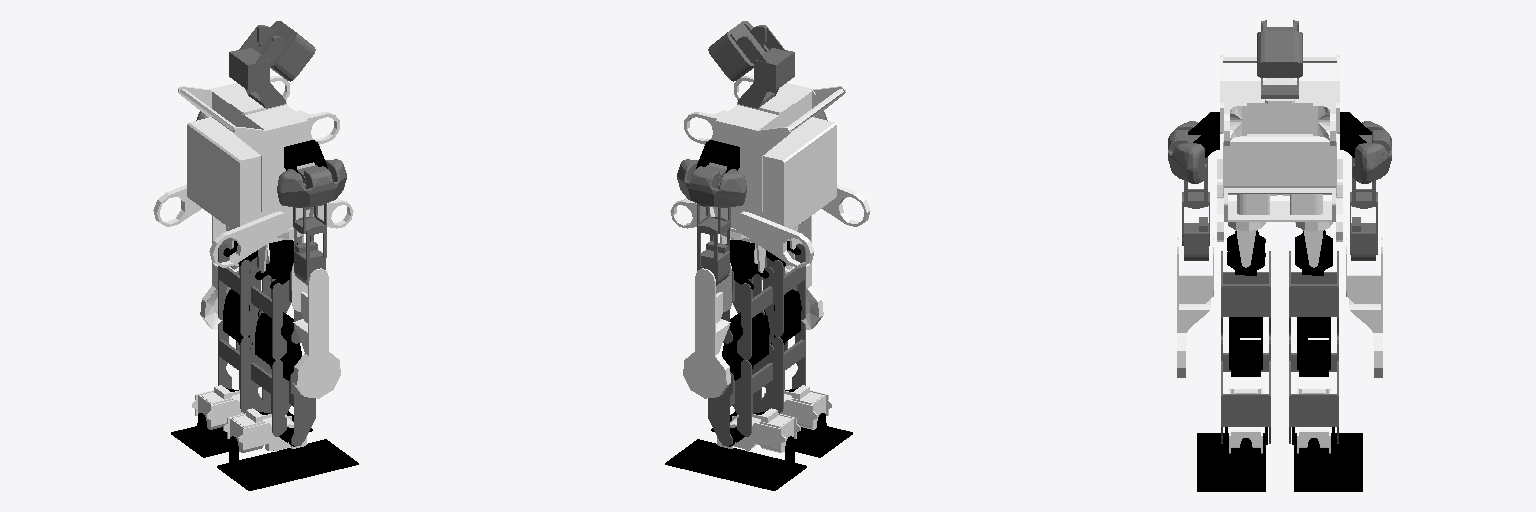
--- Facts derived from the render (not from the file) ---
Views: 3 orthographic renders of the robot side by side, from view 1: azimuth 30°, elevation 25°; view 2: azimuth 150°, elevation 25°; view 3: azimuth 270°, elevation 25°.
Model SUSTAINA-OP with 35 links and 34 joints (29 revolute, 5 fixed), rooted at base_link, posed every joint at zero.
Links seen in each view (by area): view 1: body_link, head_yaw_link, right_lower_arm_link, right_upper_arm_link, right_ankle_roll_link, right_ankle_pitch_link, right_shin_pitch_mimic_link, right_waist_pitch_mimic_link, left_shin_pitch_mimic_link, left_waist_pitch_mimic_link, right_knee_pitch_link, left_ankle_pitch_link (+6 smaller); view 2: body_link, head_yaw_link, left_lower_arm_link, left_upper_arm_link, left_ankle_roll_link, left_ankle_pitch_link, left_shin_pitch_mimic_link, left_waist_pitch_mimic_link, right_shin_pitch_mimic_link, left_knee_pitch_link, right_waist_pitch_mimic_link, right_ankle_pitch_link (+6 smaller); view 3: body_link, left_ankle_roll_link, right_ankle_roll_link, left_upper_arm_link, right_upper_arm_link, head_yaw_link, left_lower_arm_link, right_lower_arm_link, left_knee_pitch_link, right_knee_pitch_link, left_waist_pitch_link, right_waist_pitch_link (+8 smaller).
Link boxes in pixels (bbox=[...]): body_link: bbox=[153, 76, 353, 267]; head_yaw_link: bbox=[229, 21, 315, 108]; right_lower_arm_link: bbox=[292, 263, 340, 398]; right_upper_arm_link: bbox=[277, 159, 346, 285]; right_ankle_roll_link: bbox=[217, 436, 358, 490]; right_ankle_pitch_link: bbox=[223, 408, 306, 452]; right_shin_pitch_mimic_link: bbox=[250, 344, 286, 436]; right_waist_pitch_mimic_link: bbox=[250, 267, 286, 359]; left_shin_pitch_mimic_link: bbox=[218, 320, 251, 413]; left_waist_pitch_mimic_link: bbox=[218, 243, 251, 336]; right_knee_pitch_link: bbox=[255, 312, 301, 380]; left_ankle_pitch_link: bbox=[192, 385, 259, 429]; body_link: bbox=[670, 76, 870, 267]; head_yaw_link: bbox=[708, 21, 794, 108]; left_lower_arm_link: bbox=[683, 263, 731, 398]; left_upper_arm_link: bbox=[677, 159, 746, 285]; left_ankle_roll_link: bbox=[665, 436, 806, 490]; left_ankle_pitch_link: bbox=[717, 408, 800, 452]; left_shin_pitch_mimic_link: bbox=[737, 344, 773, 436]; left_waist_pitch_mimic_link: bbox=[737, 267, 773, 359]; right_shin_pitch_mimic_link: bbox=[772, 320, 805, 413]; left_knee_pitch_link: bbox=[722, 312, 769, 380]; right_waist_pitch_mimic_link: bbox=[772, 243, 805, 336]; right_ankle_pitch_link: bbox=[764, 385, 831, 429]; body_link: bbox=[1217, 55, 1342, 241]; left_ankle_roll_link: bbox=[1294, 433, 1362, 491]; right_ankle_roll_link: bbox=[1197, 433, 1265, 491]; left_upper_arm_link: bbox=[1350, 121, 1391, 260]; right_upper_arm_link: bbox=[1168, 121, 1209, 260]; head_yaw_link: bbox=[1257, 20, 1302, 98]; left_lower_arm_link: bbox=[1346, 237, 1382, 377]; right_lower_arm_link: bbox=[1177, 237, 1213, 377]; left_knee_pitch_link: bbox=[1297, 317, 1330, 376]; right_knee_pitch_link: bbox=[1229, 317, 1262, 376]; left_waist_pitch_link: bbox=[1289, 251, 1338, 334]; right_waist_pitch_link: bbox=[1221, 251, 1270, 334].
Bounding box of the posed robot: 0.2249 × 0.2928 × 0.6378 m (x, y, z).
Meshes: 15 distinct files referenced, 30 mesh visuals loaded (15 binary STL).

The robot description file, URDF, robot "SUSTAINA-OP":
<?xml version="1.0" ?>
<!-- SUSTAINA-OP is designed by Masato Kubotera https://github.com/citbrains/SUSTAINA-OP -->
<!-- SUSTAINA-OP by Masato Kubotera, CIT Brains is licenced under CC BY NC SA 4.0 -->
<!-- This package:// is made based on the 3D CAD files of SUSTAINA-OP by Yasuo Hayashibara -->
<robot name="SUSTAINA-OP" xmlns:xacro="http://www.ros.org/wiki/xacro">
  <material name="black">
    <color rgba="0.0 0.0 0.0 1.0"/>
  </material>
  <material name="blue">
    <color rgba="0.2 0.2 1.0 1.0"/>
  </material>
  <material name="green">
    <color rgba="0.0 0.8 0.0 1.0"/>
  </material>
  <material name="grey">
    <color rgba="0.5 0.5 0.5 1.0"/>
  </material>
  <material name="orange">
    <color rgba="1.0 0.423529411765 0.0392156862745 1.0"/>
  </material>
  <material name="brown">
    <color rgba="1.0 0.811764705882 0.764705882353 1.0"/>
  </material>
  <material name="red">
    <color rgba="1.0 0.0 0.0 1.0"/>
  </material>
  <material name="white">
    <color rgba="1.0 1.0 1.0 1.0"/>
  </material>
  <!-- import empty link -->
  <link name="base_link">
  </link>
  <!-- uncomment this part to fixed the body in space (ignore gravity) -->
  <!--
    <link name="world"/>
    <joint name="world2base" type="fixed">
        <origin xyz="0 0 0" rpy="0 0 0" />
        <parent link="world"/>
        <child link="base_link"/>
    </joint>
    -->
  <!-- base joints -->
  <joint name="base_joint" type="fixed">
    <parent link="base_link"/>
    <child link="body_link"/>
    <origin rpy="0 0 0" xyz="0 0 0.3725"/>
  </joint>
  <!-- base body -->
  <link name="body_link">
    <inertial>
      <mass value="1.758639"/>
      <origin xyz="-0.02475 0.000537 0.068556"/>
      <inertia ixx="0.009982335" ixy="0.0" ixz="0.0" iyy="0.007902445" iyz="0.0" izz="0.00631869"/>
    </inertial>
    <visual>
      <origin rpy="0 0 0" xyz="0 0 0"/>
      <geometry>
        <mesh filename="package:///meshes/STL/body.stl"/>
      </geometry>
      <material name="white"/>
    </visual>
    <collision>
      <origin rpy="0 0 0" xyz="0 0 0"/>
      <geometry>
        <mesh filename="package:///meshes/STL/body.stl"/>
      </geometry>
    </collision>
  </link>
  <!-- head joints -->
  <joint name="head_yaw_joint" type="revolute">
    <parent link="body_link"/>
    <child link="head_yaw_link"/>
    <origin rpy="0 0 0" xyz="-0.005 0 0.1695"/>
    <limit effort="1000" lower="-2.35619449019" upper="2.35619449019" velocity="1.0"/>
    <axis xyz="0 0 1"/>
  </joint>
  <!-- head link -->
  <link name="head_yaw_link">
    <inertial>
      <mass value="0.094731"/>
      <origin xyz="0.005724 0 0.060725"/>
      <inertia ixx="0.000126538" ixy="0.0" ixz="0.0" iyy="0.000131085" iyz="0.0" izz="0.000071725 "/>
    </inertial>
    <visual>
      <origin rpy="0 0 0" xyz="0 0 0"/>
      <geometry>
        <mesh filename="package:///meshes/STL/head.stl"/>
      </geometry>
      <material name="grey"/>
    </visual>
    <collision>
      <origin rpy="0 0 0" xyz="0 0 0"/>
      <geometry>
        <mesh filename="package:///meshes/STL/head.stl"/>
      </geometry>
    </collision>
  </link>
  <!-- arm joints -->
  <joint name="left_shoulder_pitch_joint" type="revolute">
    <parent link="body_link"/>
    <child link="left_shoulder_link"/>
    <origin rpy="0 0 0" xyz="0.0 0.0785 0.118"/>
    <limit effort="1000" lower="-2.35619449019" upper="2.35619449019" velocity="1.0"/>
    <axis xyz="0 1 0"/>
  </joint>
  <joint name="left_shoulder_roll_joint" type="revolute">
    <parent link="left_shoulder_link"/>
    <child link="left_upper_arm_link"/>
    <origin rpy="0 0 0" xyz="0 0.0308 -0.025"/>
    <limit effort="1000" lower="0" upper="3.14159265359" velocity="1.0"/>
    <axis xyz="1 0 0"/>
  </joint>
  <joint name="left_elbow_pitch_joint" type="revolute">
    <parent link="left_upper_arm_link"/>
    <child link="left_lower_arm_link"/>
    <origin rpy="0 0 0" xyz="0 0 -0.145"/>
    <limit effort="1000" lower="-2.35619449019" upper="2.35619449019" velocity="1.0"/>
    <axis xyz="0 1 0"/>
  </joint>
  <!-- arm link -->
  <link name="left_shoulder_link">
    <inertial>
      <mass value="0.029974"/>
      <origin xyz="0 0.01004 -0.005235"/>
      <inertia ixx="0.000009025" ixy="0.0" ixz="0.0" iyy="0.000016881" iyz="0.0" izz="0.000011316"/>
    </inertial>
    <visual>
      <origin rpy="0 0 0" xyz="0 0 0"/>
      <geometry>
        <mesh filename="package:///meshes/STL/shoulder.stl"/>
      </geometry>
      <material name="black"/>
    </visual>
    <collision>
      <origin rpy="0 0 0" xyz="0 0 0"/>
      <geometry>
        <mesh filename="package:///meshes/STL/shoulder.stl"/>
      </geometry>
    </collision>
  </link>
  <link name="left_upper_arm_link">
    <inertial>
      <mass value="0.433169"/>
      <origin xyz="0.000415 0.005221 -0.047591"/>
      <inertia ixx="0.001462386" ixy="0.0" ixz="0.0" iyy="0.001573653" iyz="0.0" izz="0.000250070"/>
    </inertial>
    <visual>
      <origin rpy="0 0 0" xyz="0 0 0"/>
      <geometry>
        <mesh filename="package:///meshes/STL/arm.stl"/>
      </geometry>
      <material name="grey"/>
    </visual>
    <collision>
      <origin rpy="0 0 0" xyz="0 0 0"/>
      <geometry>
        <mesh filename="package:///meshes/STL/arm.stl"/>
      </geometry>
    </collision>
  </link>
  <link name="left_lower_arm_link">
    <inertial>
      <mass value="0.137614"/>
      <origin xyz="0 0.011654 -0.083221"/>
      <inertia ixx="0.000397774" ixy="0.0" ixz="0.0" iyy="0.000391749" iyz="0.0" izz="0.000056957"/>
    </inertial>
    <visual>
      <origin rpy="0 0 0" xyz="0 0 0"/>
      <geometry>
        <mesh filename="package:///meshes/STL/hand.stl"/>
      </geometry>
      <material name="white"/>
    </visual>
    <collision>
      <origin rpy="0 0 0" xyz="0 0 0"/>
      <geometry>
        <mesh filename="package:///meshes/STL/hand.stl"/>
      </geometry>
    </collision>
  </link>
  <!-- arm joints -->
  <joint name="right_shoulder_pitch_joint" type="revolute">
    <parent link="body_link"/>
    <child link="right_shoulder_link"/>
    <origin rpy="0 0 0" xyz="0.0 -0.0785 0.118"/>
    <limit effort="1000" lower="-2.35619449019" upper="2.35619449019" velocity="1.0"/>
    <axis xyz="0 1 0"/>
  </joint>
  <joint name="right_shoulder_roll_joint" type="revolute">
    <parent link="right_shoulder_link"/>
    <child link="right_upper_arm_link"/>
    <origin rpy="0 0 0" xyz="0 -0.0308 -0.025"/>
    <limit effort="1000" lower="-3.14159265359" upper="0" velocity="1.0"/>
    <axis xyz="1 0 0"/>
  </joint>
  <joint name="right_elbow_pitch_joint" type="revolute">
    <parent link="right_upper_arm_link"/>
    <child link="right_lower_arm_link"/>
    <origin rpy="0 0 0" xyz="0 0 -0.145"/>
    <limit effort="1000" lower="-2.35619449019" upper="2.35619449019" velocity="1.0"/>
    <axis xyz="0 1 0"/>
  </joint>
  <!-- arm link -->
  <link name="right_shoulder_link">
    <inertial>
      <mass value="0.029974"/>
      <origin xyz="0 -0.01004 -0.005235"/>
      <inertia ixx="0.000009025" ixy="0.0" ixz="0.0" iyy="0.000016881" iyz="0.0" izz="0.000011316"/>
    </inertial>
    <visual>
      <origin rpy="0 0 3.14159265359" xyz="0 0 0"/>
      <geometry>
        <mesh filename="package:///meshes/STL/shoulder.stl"/>
      </geometry>
      <material name="black"/>
    </visual>
    <collision>
      <!-- fix shoulder collision.stl -->
      <origin rpy="0 0 3.14159265359" xyz="0 0 0"/>
      <geometry>
        <mesh filename="package:///meshes/STL/shoulder.stl"/>
      </geometry>
    </collision>
  </link>
  <link name="right_upper_arm_link">
    <inertial>
      <mass value="0.433169"/>
      <origin xyz="0.000415 -0.005221 -0.047591"/>
      <inertia ixx="0.001462386" ixy="0.0" ixz="0.0" iyy="0.001573653" iyz="0.0" izz="0.000250070"/>
    </inertial>
    <visual>
      <origin rpy="0 0 3.14159265359" xyz="0 0 0"/>
      <geometry>
        <mesh filename="package:///meshes/STL/arm.stl"/>
      </geometry>
      <material name="grey"/>
    </visual>
    <collision>
      <origin rpy="0 0 3.14159265359" xyz="0 0 0"/>
      <geometry>
        <mesh filename="package:///meshes/STL/arm.stl"/>
      </geometry>
    </collision>
  </link>
  <link name="right_lower_arm_link">
    <inertial>
      <mass value="0.137614"/>
      <origin xyz="0 -0.011654 -0.083221"/>
      <inertia ixx="0.000397774" ixy="0.0" ixz="0.0" iyy="0.000391749" iyz="0.0" izz="0.000056957"/>
    </inertial>
    <visual>
      <origin rpy="0 0 3.14159265359" xyz="0 0 0"/>
      <geometry>
        <mesh filename="package:///meshes/STL/hand.stl"/>
      </geometry>
      <material name="white"/>
    </visual>
    <collision>
      <origin rpy="0 0 3.14159265359" xyz="0 0 0"/>
      <geometry>
        <mesh filename="package:///meshes/STL/hand.stl"/>
      </geometry>
    </collision>
  </link>
  <!-- leg joints -->
  <joint name="left_waist_yaw_joint" type="revolute">
    <parent link="body_link"/>
    <child link="left_waist_yaw_link"/>
    <origin rpy="0 0 0" xyz="0.0 0.044 -0.015"/>
    <limit effort="1000" lower="-2.35619449019" upper="2.35619449019" velocity="1.0"/>
    <axis xyz="0 0 1"/>
  </joint>
  <joint name="left_waist_roll_joint" type="revolute">
    <parent link="left_waist_yaw_link"/>
    <child link="left_waist_roll_link"/>
    <origin rpy="0 0 0" xyz="0 0 -0.0475"/>
    <limit effort="1000" lower="-0.785398163397" upper="0.785398163397" velocity="1.0"/>
    <axis xyz="1 0 0"/>
  </joint>
  <joint name="left_waist_roll_mimic_joint" type="revolute">
    <parent link="left_waist_roll_link"/>
    <child link="left_slider_crank_link"/>
    <origin rpy="0 0 0" xyz="-0.032 0 0.018"/>
    <mimic joint="left_waist_roll_joint" multiplier="-2" offset="0"/>
    <limit effort="1000" lower="-1.57079632679" upper="1.57079632679" velocity="2.0"/>
    <axis xyz="1 0 0"/>
  </joint>
  <joint name="left_waist_pitch_joint" type="revolute">
    <parent link="left_waist_roll_link"/>
    <child link="left_waist_pitch_link"/>
    <origin rpy="0 0 0" xyz="0 0 0"/>
    <limit effort="1000" lower="-1.57079632679" upper="0.523598775598" velocity="1.0"/>
    <axis xyz="0 1 0"/>
  </joint>
  <joint name="left_waist_pitch_mimic_joint" type="revolute">
    <parent link="left_waist_roll_link"/>
    <child link="left_waist_pitch_mimic_link"/>
    <origin rpy="0 0 0" xyz="-0.032 0 -0.020"/>
    <mimic joint="left_waist_pitch_joint" multiplier="1" offset="0"/>
    <limit effort="1000" lower="-1.57079632679" upper="0.523598775598" velocity="1.0"/>
    <axis xyz="0 1 0"/>
  </joint>
  <joint name="left_knee_pitch_mimic_joint" type="revolute">
    <parent link="left_waist_pitch_link"/>
    <child link="left_knee_pitch_link"/>
    <origin rpy="0 0 0" xyz="0 0 -0.1"/>
    <mimic joint="left_waist_pitch_joint" multiplier="-1" offset="0"/>
    <limit effort="1000" lower="-0.523598775598" upper="1.57079632679" velocity="1.0"/>
    <axis xyz="0 1 0"/>
  </joint>
  <joint name="left_knee_pitch_joint" type="revolute">
    <parent link="left_knee_pitch_link"/>
    <child link="left_shin_pitch_link"/>
    <origin rpy="0 0 0" xyz="0 0 -0.057"/>
    <limit effort="1000" lower="-0.523598775598" upper="1.57079632679" velocity="1.0"/>
    <axis xyz="0 1 0"/>
  </joint>
  <joint name="left_shin_pitch_mimic_joint" type="revolute">
    <parent link="left_knee_pitch_link"/>
    <child link="left_shin_pitch_mimic_link"/>
    <origin rpy="0 0 0" xyz="-0.032 0 -0.037"/>
    <mimic joint="left_knee_pitch_joint" multiplier="1" offset="0"/>
    <limit effort="1000" lower="-0.523598775598" upper="1.57079632679" velocity="1.0"/>
    <axis xyz="0 1 0"/>
  </joint>
  <joint name="left_ankle_pitch_mimic_joint" type="revolute">
    <parent link="left_shin_pitch_link"/>
    <child link="left_independent_pitch_link"/>
    <origin rpy="0 0 0" xyz="0 0 -0.1"/>
    <mimic joint="left_knee_pitch_joint" multiplier="-1" offset="0"/>
    <limit effort="1000" lower="-1.57079632679" upper="1.57079632679" velocity="1.0"/>
    <axis xyz="0 1 0"/>
  </joint>
  <joint name="left_ankle_pitch_joint" type="revolute">
    <parent link="left_independent_pitch_link"/>
    <child link="left_ankle_pitch_link"/>
    <origin rpy="0 0 0" xyz="0 0 0"/>
    <limit effort="1000" lower="-2.35619449019" upper="2.35619449019" velocity="1.0"/>
    <axis xyz="0 1 0"/>
  </joint>
  <joint name="left_ankle_roll_joint" type="revolute">
    <parent link="left_ankle_pitch_link"/>
    <child link="left_ankle_roll_link"/>
    <origin rpy="0 0 0" xyz="0 0 0"/>
    <limit effort="1000" lower="-1.57079632679" upper="1.57079632679" velocity="1.0"/>
    <axis xyz="1 0 0"/>
  </joint>
  <joint name="left_foot_joint" type="fixed">
    <parent link="left_ankle_roll_link"/>
    <child link="left_foot_link"/>
    <origin rpy="0 0 0" xyz="0 0 0"/>
  </joint>
  <!-- leg links -->
  <link name="left_waist_yaw_link">
    <inertial>
      <mass value="0.03478"/>
      <origin xyz="-0.008797 0 -0.009724"/>
      <inertia ixx="0.000008114" ixy="0.0" ixz="0.0" iyy="0.000023034" iyz="0.0" izz="0.000019287"/>
    </inertial>
    <visual>
      <origin rpy="0 0 0" xyz="0 0 0"/>
      <geometry>
        <mesh filename="package:///meshes/STL/waist_yaw.stl"/>
      </geometry>
      <material name="white"/>
    </visual>
    <collision>
      <origin rpy="0 0 0" xyz="0 0 0"/>
      <geometry>
        <mesh filename="package:///meshes/STL/waist_yaw.stl"/>
      </geometry>
    </collision>
  </link>
  <link name="left_waist_roll_link">
    <inertial>
      <mass value="0.129389"/>
      <origin xyz="-0.011068 -0.000004 -0.000154"/>
      <inertia ixx="0.000055580" ixy="0.0" ixz="0.0" iyy="0.000061752" iyz="0.0" izz="0.000079989"/>
    </inertial>
    <visual>
      <origin rpy="0 0 0" xyz="0 0 0"/>
      <geometry>
        <mesh filename="package:///meshes/STL/waist_roll.stl"/>
      </geometry>
      <material name="black"/>
    </visual>
    <collision>
      <origin rpy="0 0 0" xyz="0 0 0"/>
      <geometry>
        <mesh filename="package:///meshes/STL/waist_roll.stl"/>
      </geometry>
    </collision>
  </link>
  <link name="left_slider_crank_link">
    <inertial>
      <mass value="0.011085"/>
      <origin xyz="-0.005363 0.000000 0.012305"/>
      <inertia ixx="0.000001236" ixy="0.0" ixz="0.0" iyy="0.000001154" iyz="0.0" izz="0.000000372"/>
    </inertial>
    <visual>
      <origin rpy="0 0 0" xyz="0 0 0"/>
      <geometry>
        <mesh filename="package:///meshes/STL/slider_crank.stl"/>
      </geometry>
      <material name="white"/>
    </visual>
    <collision>
      <origin rpy="0 0 0" xyz="0 0 0"/>
      <geometry>
        <mesh filename="package:///meshes/STL/slider_crank.stl"/>
      </geometry>
    </collision>
  </link>
  <link name="left_waist_pitch_link">
    <inertial>
      <mass value="0.048967"/>
      <origin xyz="0.011314 0.000000 -0.062223"/>
      <inertia ixx="0.000082632" ixy="0.0" ixz="0.0" iyy="0.000049273" iyz="0.0" izz="0.000045494"/>
    </inertial>
    <visual>
      <origin rpy="0 0 0" xyz="0 0 0"/>
      <geometry>
        <mesh filename="package:///meshes/STL/waist_pitch.stl"/>
      </geometry>
      <material name="grey"/>
    </visual>
    <collision>
      <origin rpy="0 0 0" xyz="0 0 0"/>
      <geometry>
        <mesh filename="package:///meshes/STL/waist_pitch.stl"/>
      </geometry>
    </collision>
  </link>
  <link name="left_waist_pitch_mimic_link">
    <inertial>
      <mass value="0.023"/>
      <origin xyz="-0.001672 0.000000 -0.043339"/>
      <inertia ixx="0.000034484" ixy="0.0" ixz="0.0" iyy="0.000017178" iyz="0.0" izz="0.000018302"/>
    </inertial>
    <visual>
      <origin rpy="0 0 0" xyz="0 0 0"/>
      <geometry>
        <mesh filename="package:///meshes/STL/waist_pitch_mimic.stl"/>
      </geometry>
      <material name="grey"/>
    </visual>
    <collision>
      <origin rpy="0 0 0" xyz="0 0 0"/>
      <geometry>
        <mesh filename="package:///meshes/STL/waist_pitch_mimic.stl"/>
      </geometry>
    </collision>
  </link>
  <link name="left_knee_pitch_link">
    <inertial>
      <mass value="0.19127"/>
      <origin xyz="-0.012553 -0.000997 -0.023840"/>
      <inertia ixx="0.000164790" ixy="0.0" ixz="0.0" iyy="0.000151986" iyz="0.0" izz="0.000098349"/>
    </inertial>
    <visual>
      <origin rpy="0 0 0" xyz="0 0 0"/>
      <geometry>
        <mesh filename="package:///meshes/STL/knee_pitch.stl"/>
      </geometry>
      <material name="black"/>
    </visual>
    <collision>
      <origin rpy="0 0 0" xyz="0 0 0"/>
      <geometry>
        <mesh filename="package:///meshes/STL/knee_pitch.stl"/>
      </geometry>
    </collision>
  </link>
  <link name="left_shin_pitch_link">
    <inertial>
      <mass value="0.048967"/>
      <origin xyz="0.011314 0.000000 -0.037777"/>
      <inertia ixx="0.000082632" ixy="0.0" ixz="0.0" iyy="0.000049273" iyz="0.0" izz="0.000045494"/>
    </inertial>
    <visual>
      <origin rpy="0 0 0" xyz="0 0 0"/>
      <geometry>
        <mesh filename="package:///meshes/STL/waist_pitch.stl"/>
      </geometry>
      <material name="grey"/>
    </visual>
    <collision>
      <origin rpy="0 0 0" xyz="0 0 0"/>
      <geometry>
        <mesh filename="package:///meshes/STL/waist_pitch.stl"/>
      </geometry>
    </collision>
  </link>
  <link name="left_shin_pitch_mimic_link">
    <inertial>
      <mass value="0.023"/>
      <origin xyz="-0.001672 0.000000 -0.048684"/>
      <inertia ixx="0.000032309" ixy="0.0" ixz="0.0" iyy="0.000015039" iyz="0.0" izz="0.000018339"/>
    </inertial>
    <visual>
      <origin rpy="0 0 0" xyz="0 0 0"/>
      <geometry>
        <mesh filename="package:///meshes/STL/waist_pitch_mimic.stl"/>
      </geometry>
      <material name="grey"/>
    </visual>
    <collision>
      <origin rpy="0 0 0" xyz="0 0 0"/>
      <geometry>
        <mesh filename="package:///meshes/STL/waist_pitch_mimic.stl"/>
      </geometry>
    </collision>
  </link>
  <link name="left_independent_pitch_link">
    <inertial>
      <mass value="0.033835"/>
      <origin xyz="-0.014232 0.000000 0.008895"/>
      <inertia ixx="0.000030599" ixy="0.0" ixz="0.0" iyy="0.000011414" iyz="0.0" izz="0.000040713"/>
    </inertial>
    <visual>
      <origin rpy="0 0 0" xyz="0 0 0"/>
      <geometry>
        <mesh filename="package:///meshes/STL/independent_pitch.stl"/>
      </geometry>
      <material name="black"/>
    </visual>
    <collision>
      <origin rpy="0 0 0" xyz="0 0 0"/>
      <geometry>
        <mesh filename="package:///meshes/STL/independent_pitch.stl"/>
      </geometry>
    </collision>
  </link>
  <link name="left_ankle_pitch_link">
    <inertial>
      <mass value="0.170076"/>
      <origin xyz="-0.031024 -0.000563 0.005073"/>
      <inertia ixx="0.000049799" ixy="0.0" ixz="0.0" iyy="0.000213199" iyz="0.0" izz="0.000223639"/>
    </inertial>
    <visual>
      <origin rpy="0 0 0" xyz="0 0 0"/>
      <geometry>
        <mesh filename="package:///meshes/STL/ankle_pitch.stl"/>
      </geometry>
      <material name="white"/>
    </visual>
    <collision>
      <origin rpy="0 0 0" xyz="0 0 0"/>
      <geometry>
        <mesh filename="package:///meshes/STL/ankle_pitch.stl"/>
      </geometry>
    </collision>
  </link>
  <link name="left_ankle_roll_link">
    <inertial>
      <mass value="0.084354"/>
      <origin xyz="-0.009915 0.014839 -0.038901"/>
      <inertia ixx="0.000072411" ixy="0.0" ixz="0.0" iyy="0.000303046" iyz="0.0" izz="0.000358794"/>
    </inertial>
    <visual>
      <origin rpy="0 0 0" xyz="0 0 0"/>
      <geometry>
        <mesh filename="package:///meshes/STL/ankle_roll_left.stl"/>
      </geometry>
      <material name="black"/>
    </visual>
    <collision>
      <origin rpy="0 0 0" xyz="0 0 0"/>
      <geometry>
        <mesh filename="package:///meshes/STL/ankle_roll_left.stl"/>
      </geometry>
    </collision>
  </link>
  <link name="left_foot_link">
    <inertial>
      <mass value="0.0"/>
      <inertia ixx="0.0" ixy="0.0" ixz="0.0" iyy="0.0" iyz="0.0" izz="0.0"/>
    </inertial>
  </link>
  <!-- leg joints -->
  <joint name="right_waist_yaw_joint" type="revolute">
    <parent link="body_link"/>
    <child link="right_waist_yaw_link"/>
    <origin rpy="0 0 0" xyz="0 -0.044 -0.015"/>
    <limit effort="1000" lower="-2.35619449019" upper="2.35619449019" velocity="1.0"/>
    <axis xyz="0 0 1"/>
  </joint>
  <joint name="right_waist_roll_joint" type="revolute">
    <parent link="right_waist_yaw_link"/>
    <child link="right_waist_roll_link"/>
    <origin rpy="0 0 0" xyz="0 0 -0.0475"/>
    <limit effort="1000" lower="-0.785398163397" upper="0.785398163397" velocity="1.0"/>
    <axis xyz="1 0 0"/>
  </joint>
  <joint name="right_waist_roll_mimic_joint" type="revolute">
    <parent link="right_waist_roll_link"/>
    <child link="right_slider_crank_link"/>
    <origin rpy="0 0 0" xyz="-0.032 0 0.018"/>
    <mimic joint="right_waist_roll_joint" multiplier="-2" offset="0"/>
    <limit effort="1000" lower="-1.57079632679" upper="1.57079632679" velocity="2.0"/>
    <axis xyz="1 0 0"/>
  </joint>
  <joint name="right_waist_pitch_joint" type="revolute">
    <parent link="right_waist_roll_link"/>
    <child link="right_waist_pitch_link"/>
    <origin rpy="0 0 0" xyz="0 0 0"/>
    <limit effort="1000" lower="-1.57079632679" upper="0.523598775598" velocity="1.0"/>
    <axis xyz="0 1 0"/>
  </joint>
  <joint name="right_waist_pitch_mimic_joint" type="revolute">
    <parent link="right_waist_roll_link"/>
    <child link="right_waist_pitch_mimic_link"/>
    <origin rpy="0 0 0" xyz="-0.032 0 -0.020"/>
    <mimic joint="right_waist_pitch_joint" multiplier="1" offset="0"/>
    <limit effort="1000" lower="-1.57079632679" upper="0.523598775598" velocity="1.0"/>
    <axis xyz="0 1 0"/>
  </joint>
  <joint name="right_knee_pitch_mimic_joint" type="revolute">
    <parent link="right_waist_pitch_link"/>
    <child link="right_knee_pitch_link"/>
    <origin rpy="0 0 0" xyz="0 0 -0.100"/>
    <mimic joint="right_waist_pitch_joint" multiplier="-1" offset="0"/>
    <limit effort="1000" lower="-0.523598775598" upper="1.57079632679" velocity="1.0"/>
    <axis xyz="0 1 0"/>
  </joint>
  <joint name="right_knee_pitch_joint" type="revolute">
    <parent link="right_knee_pitch_link"/>
    <child link="right_shin_pitch_link"/>
    <origin rpy="0 0 0" xyz="0 0 -0.057"/>
    <limit effort="1000" lower="-0.523598775598" upper="1.57079632679" velocity="1.0"/>
    <axis xyz="0 1 0"/>
  </joint>
  <joint name="right_shin_pitch_mimic_joint" type="revolute">
    <parent link="right_knee_pitch_link"/>
    <child link="right_shin_pitch_mimic_link"/>
    <origin rpy="0 0 0" xyz="-0.032 0 -0.037"/>
    <mimic joint="right_knee_pitch_joint" multiplier="1" offset="0"/>
    <limit effort="1000" lower="-0.523598775598" upper="1.57079632679" velocity="1.0"/>
    <axis xyz="0 1 0"/>
  </joint>
  <joint name="right_ankle_pitch_mimic_joint" type="revolute">
    <parent link="right_shin_pitch_link"/>
    <child link="right_independent_pitch_link"/>
    <origin rpy="0 0 0" xyz="0 0 -0.100"/>
    <mimic joint="right_knee_pitch_joint" multiplier="-1" offset="0"/>
    <limit effort="1000" lower="-1.57079632679" upper="1.57079632679" velocity="1.0"/>
    <axis xyz="0 1 0"/>
  </joint>
  <joint name="right_ankle_pitch_joint" type="revolute">
    <parent link="right_independent_pitch_link"/>
    <child link="right_ankle_pitch_link"/>
    <origin rpy="0 0 0" xyz="0 0 0"/>
    <limit effort="1000" lower="-2.35619449019" upper="2.35619449019" velocity="1.0"/>
    <axis xyz="0 1 0"/>
  </joint>
  <joint name="right_ankle_roll_joint" type="revolute">
    <parent link="right_ankle_pitch_link"/>
    <child link="right_ankle_roll_link"/>
    <origin rpy="0 0 0" xyz="0 0 0"/>
    <limit effort="1000" lower="-1.57079632679" upper="1.57079632679" velocity="1.0"/>
    <axis xyz="1 0 0"/>
  </joint>
  <joint name="right_foot_joint" type="fixed">
    <parent link="right_ankle_roll_link"/>
    <child link="right_foot_link"/>
    <origin rpy="0 0 0" xyz="0 0 0"/>
  </joint>
  <!-- leg links -->
  <link name="right_waist_yaw_link">
    <inertial>
      <mass value="0.03478"/>
      <origin xyz="-0.008797 0.000000 -0.009724"/>
      <inertia ixx="0.000008114" ixy="0.0" ixz="0.0" iyy="0.000023034" iyz="0.0" izz="0.000019287"/>
    </inertial>
    <visual>
      <origin rpy="0 0 0" xyz="0 0 0"/>
      <geometry>
        <mesh filename="package:///meshes/STL/waist_yaw.stl"/>
      </geometry>
      <material name="white"/>
    </visual>
    <collision>
      <origin rpy="0 0 0" xyz="0 0 0"/>
      <geometry>
        <mesh filename="package:///meshes/STL/waist_yaw.stl"/>
      </geometry>
    </collision>
  </link>
  <link name="right_waist_roll_link">
    <inertial>
      <mass value="0.129389"/>
      <origin xyz="-0.011068 0.000004 -0.000154"/>
      <inertia ixx="0.000055580" ixy="0.0" ixz="0.0" iyy="0.000061752" iyz="0.0" izz="0.000079989"/>
    </inertial>
    <visual>
      <origin rpy="0 0 0" xyz="0 0 0"/>
      <geometry>
        <mesh filename="package:///meshes/STL/waist_roll.stl"/>
      </geometry>
      <material name="black"/>
    </visual>
    <collision>
      <origin rpy="0 0 0" xyz="0 0 0"/>
      <geometry>
        <mesh filename="package:///meshes/STL/waist_roll.stl"/>
      </geometry>
    </collision>
  </link>
  <link name="right_slider_crank_link">
    <inertial>
      <mass value="0.011085"/>
      <origin xyz="-0.005363 0.000000 0.012305"/>
      <inertia ixx="0.000001236" ixy="0.0" ixz="0.0" iyy="0.000001154" iyz="0.0" izz="0.000000372"/>
    </inertial>
    <visual>
      <origin rpy="0 0 0" xyz="0 0 0"/>
      <geometry>
        <mesh filename="package:///meshes/STL/slider_crank.stl"/>
      </geometry>
      <material name="white"/>
    </visual>
    <collision>
      <origin rpy="0 0 0" xyz="0 0 0"/>
      <geometry>
        <mesh filename="package:///meshes/STL/slider_crank.stl"/>
      </geometry>
    </collision>
  </link>
  <link name="right_waist_pitch_link">
    <inertial>
      <mass value="0.048967"/>
      <origin xyz="0.011314 0.000000 -0.062223"/>
      <inertia ixx="0.000082632" ixy="0.0" ixz="0.0" iyy="0.000049273" iyz="0.0" izz="0.000045494"/>
    </inertial>
    <visual>
      <origin rpy="0 0 0" xyz="0 0 0"/>
      <geometry>
        <mesh filename="package:///meshes/STL/waist_pitch.stl"/>
      </geometry>
      <material name="grey"/>
    </visual>
    <collision>
      <origin rpy="0 0 0" xyz="0 0 0"/>
      <geometry>
        <mesh filename="package:///meshes/STL/waist_pitch.stl"/>
      </geometry>
    </collision>
  </link>
  <link name="right_waist_pitch_mimic_link">
    <inertial>
      <mass value="0.023"/>
      <origin xyz="-0.001672 0.000000 -0.043339"/>
      <inertia ixx="0.000034484" ixy="0.0" ixz="0.0" iyy="0.000017178" iyz="0.0" izz="0.000018302"/>
    </inertial>
    <visual>
      <origin rpy="0 0 0" xyz="0 0 0"/>
      <geometry>
        <mesh filename="package:///meshes/STL/waist_pitch_mimic.stl"/>
      </geometry>
      <material name="grey"/>
    </visual>
    <collision>
      <origin rpy="0 0 0" xyz="0 0 0"/>
      <geometry>
        <mesh filename="package:///meshes/STL/waist_pitch_mimic.stl"/>
      </geometry>
    </collision>
  </link>
  <link name="right_knee_pitch_link">
    <inertial>
      <mass value="0.19127"/>
      <origin xyz="-0.012553 0.000997 -0.023840"/>
      <inertia ixx="0.000164790" ixy="0.0" ixz="0.0" iyy="0.000151986" iyz="0.0" izz="0.000098349"/>
    </inertial>
    <visual>
      <origin rpy="0 0 0" xyz="0 0 0"/>
      <geometry>
        <mesh filename="package:///meshes/STL/knee_pitch.stl"/>
      </geometry>
      <material name="black"/>
    </visual>
    <collision>
      <origin rpy="0 0 0" xyz="0 0 0"/>
      <geometry>
        <mesh filename="package:///meshes/STL/knee_pitch.stl"/>
      </geometry>
    </collision>
  </link>
  <link name="right_shin_pitch_link">
    <inertial>
      <mass value="0.048967"/>
      <origin xyz="0.011314 0.000000 -0.037777"/>
      <inertia ixx="0.000082632" ixy="0.0" ixz="0.0" iyy="0.000049273" iyz="0.0" izz="0.000045494"/>
    </inertial>
    <visual>
      <origin rpy="0 0 0" xyz="0 0 0"/>
      <geometry>
        <mesh filename="package:///meshes/STL/waist_pitch.stl"/>
      </geometry>
      <material name="grey"/>
    </visual>
    <collision>
      <origin rpy="0 0 0" xyz="0 0 0"/>
      <geometry>
        <mesh filename="package:///meshes/STL/waist_pitch.stl"/>
      </geometry>
    </collision>
  </link>
  <link name="right_shin_pitch_mimic_link">
    <inertial>
      <mass value="0.023"/>
      <origin xyz="-0.001672 0.000000 -0.048684"/>
      <inertia ixx="0.000032309" ixy="0.0" ixz="0.0" iyy="0.000015039" iyz="0.0" izz="0.000018339"/>
    </inertial>
    <visual>
      <origin rpy="0 0 0" xyz="0 0 0"/>
      <geometry>
        <mesh filename="package:///meshes/STL/waist_pitch_mimic.stl"/>
      </geometry>
      <material name="grey"/>
    </visual>
    <collision>
      <origin rpy="0 0 0" xyz="0 0 0"/>
      <geometry>
        <mesh filename="package:///meshes/STL/waist_pitch_mimic.stl"/>
      </geometry>
    </collision>
  </link>
  <link name="right_independent_pitch_link">
    <inertial>
      <mass value="0.033835"/>
      <origin xyz="-0.014232 0.000000 0.008895"/>
      <inertia ixx="0.000030599" ixy="0.0" ixz="0.0" iyy="0.000011414" iyz="0.0" izz="0.000040713"/>
    </inertial>
    <visual>
      <origin rpy="0 0 0" xyz="0 0 0"/>
      <geometry>
        <mesh filename="package:///meshes/STL/independent_pitch.stl"/>
      </geometry>
      <material name="black"/>
    </visual>
    <collision>
      <origin rpy="0 0 0" xyz="0 0 0"/>
      <geometry>
        <mesh filename="package:///meshes/STL/independent_pitch.stl"/>
      </geometry>
    </collision>
  </link>
  <link name="right_ankle_pitch_link">
    <inertial>
      <mass value="0.170076"/>
      <origin xyz="-0.031024 0.000563 0.005073"/>
      <inertia ixx="0.000049799" ixy="0.0" ixz="0.0" iyy="0.000213199" iyz="0.0" izz="0.000223639"/>
    </inertial>
    <visual>
      <origin rpy="0 0 0" xyz="0 0 0"/>
      <geometry>
        <mesh filename="package:///meshes/STL/ankle_pitch.stl"/>
      </geometry>
      <material name="white"/>
    </visual>
    <collision>
      <origin rpy="0 0 0" xyz="0 0 0"/>
      <geometry>
        <mesh filename="package:///meshes/STL/ankle_pitch.stl"/>
      </geometry>
    </collision>
  </link>
  <link name="right_ankle_roll_link">
    <inertial>
      <mass value="0.084354"/>
      <origin xyz="-0.009915 -0.014839 -0.038901"/>
      <inertia ixx="0.000072411" ixy="0.0" ixz="0.0" iyy="0.000303046" iyz="0.0" izz="0.000358794"/>
    </inertial>
    <visual>
      <origin rpy="0 0 0" xyz="0 0 0"/>
      <geometry>
        <mesh filename="package:///meshes/STL/ankle_roll_right.stl"/>
      </geometry>
      <material name="black"/>
    </visual>
    <collision>
      <origin rpy="0 0 0" xyz="0 0 0"/>
      <geometry>
        <mesh filename="package:///meshes/STL/ankle_roll_right.stl"/>
      </geometry>
    </collision>
  </link>
  <link name="right_foot_link">
    <inertial>
      <mass value="0.0"/>
      <inertia ixx="0.0" ixy="0.0" ixz="0.0" iyy="0.0" iyz="0.0" izz="0.0"/>
    </inertial>
  </link>
  <!-- camera joints -->
  <joint name="camera_joint" type="fixed">
    <parent link="head_yaw_link"/>
    <child link="camera_link"/>
    <origin rpy="0.785398163397 0 -1.5707963268" xyz="0.036495 0 0.063504"/>
  </joint>
  <!-- camera link -->
  <link name="camera_link">
    <inertial>
      <mass value="0.0"/>
      <inertia ixx="0.0" ixy="0.0" ixz="0.0" iyy="0.0" iyz="0.0" izz="0.0"/>
    </inertial>
  </link>
  <!-- imu joint -->
  <joint name="imu_joint" type="fixed">
    <parent link="body_link"/>
    <child link="imu_link"/>
    <origin rpy="0 0 0" xyz="-0.005 0.01682 0.003"/>
  </joint>
  <!-- imu link -->
  <link name="imu_link">
    <inertial>
      <mass value="0.0"/>
      <inertia ixx="0.0" ixy="0.0" ixz="0.0" iyy="0.0" iyz="0.0" izz="0.0"/>
    </inertial>
  </link>
  <transmission name="trans_head_yaw">
    <type>transmission_interface/SimpleTransmission</type>
    <joint name="head_yaw_joint">
      <hardwareInterface>hardware_interface/PositionJointInterface</hardwareInterface>
    </joint>
    <actuator name="motor_head_yaw">
      <hardwareInterface>hardware_interface/PositionJointInterface</hardwareInterface>
      <mechanicalReduction>1</mechanicalReduction>
    </actuator>
  </transmission>
  <transmission name="trans_left_shoulder_pitch">
    <type>transmission_interface/SimpleTransmission</type>
    <joint name="left_shoulder_pitch_joint">
      <hardwareInterface>hardware_interface/PositionJointInterface</hardwareInterface>
    </joint>
    <actuator name="motor_{name}">
      <hardwareInterface>hardware_interface/PositionJointInterface</hardwareInterface>
      <mechanicalReduction>1</mechanicalReduction>
    </actuator>
  </transmission>
  <transmission name="trans_left_shoulder_roll">
    <type>transmission_interface/SimpleTransmission</type>
    <joint name="left_shoulder_roll_joint">
      <hardwareInterface>hardware_interface/PositionJointInterface</hardwareInterface>
    </joint>
    <actuator name="motor_{name}">
      <hardwareInterface>hardware_interface/PositionJointInterface</hardwareInterface>
      <mechanicalReduction>1</mechanicalReduction>
    </actuator>
  </transmission>
  <transmission name="trans_left_elbow_pitch">
    <type>transmission_interface/SimpleTransmission</type>
    <joint name="left_elbow_pitch_joint">
      <hardwareInterface>hardware_interface/PositionJointInterface</hardwareInterface>
    </joint>
    <actuator name="motor_{name}">
      <hardwareInterface>hardware_interface/PositionJointInterface</hardwareInterface>
      <mechanicalReduction>1</mechanicalReduction>
    </actuator>
  </transmission>
  <transmission name="trans_right_shoulder_pitch">
    <type>transmission_interface/SimpleTransmission</type>
    <joint name="right_shoulder_pitch_joint">
      <hardwareInterface>hardware_interface/PositionJointInterface</hardwareInterface>
    </joint>
    <actuator name="motor_{name}">
      <hardwareInterface>hardware_interface/PositionJointInterface</hardwareInterface>
      <mechanicalReduction>1</mechanicalReduction>
    </actuator>
  </transmission>
  <transmission name="trans_right_shoulder_roll">
    <type>transmission_interface/SimpleTransmission</type>
    <joint name="right_shoulder_roll_joint">
      <hardwareInterface>hardware_interface/PositionJointInterface</hardwareInterface>
    </joint>
    <actuator name="motor_{name}">
      <hardwareInterface>hardware_interface/PositionJointInterface</hardwareInterface>
      <mechanicalReduction>1</mechanicalReduction>
    </actuator>
  </transmission>
  <transmission name="trans_right_elbow_pitch">
    <type>transmission_interface/SimpleTransmission</type>
    <joint name="right_elbow_pitch_joint">
      <hardwareInterface>hardware_interface/PositionJointInterface</hardwareInterface>
    </joint>
    <actuator name="motor_{name}">
      <hardwareInterface>hardware_interface/PositionJointInterface</hardwareInterface>
      <mechanicalReduction>1</mechanicalReduction>
    </actuator>
  </transmission>
  <transmission name="trans_left_waist_yaw">
    <type>transmission_interface/SimpleTransmission</type>
    <joint name="left_waist_yaw_joint">
      <hardwareInterface>hardware_interface/PositionJointInterface</hardwareInterface>
    </joint>
    <actuator name="motor_{name}">
      <hardwareInterface>hardware_interface/PositionJointInterface</hardwareInterface>
      <mechanicalReduction>1</mechanicalReduction>
    </actuator>
  </transmission>
  <transmission name="trans_left_waist_roll">
    <type>transmission_interface/SimpleTransmission</type>
    <joint name="left_waist_roll_joint">
      <hardwareInterface>hardware_interface/PositionJointInterface</hardwareInterface>
    </joint>
    <actuator name="motor_{name}">
      <hardwareInterface>hardware_interface/PositionJointInterface</hardwareInterface>
      <mechanicalReduction>1</mechanicalReduction>
    </actuator>
  </transmission>
  <transmission name="trans_left_waist_pitch">
    <type>transmission_interface/SimpleTransmission</type>
    <joint name="left_waist_pitch_joint">
      <hardwareInterface>hardware_interface/PositionJointInterface</hardwareInterface>
    </joint>
    <actuator name="motor_{name}">
      <hardwareInterface>hardware_interface/PositionJointInterface</hardwareInterface>
      <mechanicalReduction>1</mechanicalReduction>
    </actuator>
  </transmission>
  <transmission name="trans_left_knee_pitch">
    <type>transmission_interface/SimpleTransmission</type>
    <joint name="left_knee_pitch_joint">
      <hardwareInterface>hardware_interface/PositionJointInterface</hardwareInterface>
    </joint>
    <actuator name="motor_{name}">
      <hardwareInterface>hardware_interface/PositionJointInterface</hardwareInterface>
      <mechanicalReduction>1</mechanicalReduction>
    </actuator>
  </transmission>
  <transmission name="trans_left_ankle_pitch">
    <type>transmission_interface/SimpleTransmission</type>
    <joint name="left_ankle_pitch_joint">
      <hardwareInterface>hardware_interface/PositionJointInterface</hardwareInterface>
    </joint>
    <actuator name="motor_{name}">
      <hardwareInterface>hardware_interface/PositionJointInterface</hardwareInterface>
      <mechanicalReduction>1</mechanicalReduction>
    </actuator>
  </transmission>
  <transmission name="trans_left_ankle_roll">
    <type>transmission_interface/SimpleTransmission</type>
    <joint name="left_ankle_roll_joint">
      <hardwareInterface>hardware_interface/PositionJointInterface</hardwareInterface>
    </joint>
    <actuator name="motor_{name}">
      <hardwareInterface>hardware_interface/PositionJointInterface</hardwareInterface>
      <mechanicalReduction>1</mechanicalReduction>
    </actuator>
  </transmission>
  <transmission name="trans_right_waist_yaw">
    <type>transmission_interface/SimpleTransmission</type>
    <joint name="right_waist_yaw_joint">
      <hardwareInterface>hardware_interface/PositionJointInterface</hardwareInterface>
    </joint>
    <actuator name="motor_{name}">
      <hardwareInterface>hardware_interface/PositionJointInterface</hardwareInterface>
      <mechanicalReduction>1</mechanicalReduction>
    </actuator>
  </transmission>
  <transmission name="trans_right_waist_roll">
    <type>transmission_interface/SimpleTransmission</type>
    <joint name="right_waist_roll_joint">
      <hardwareInterface>hardware_interface/PositionJointInterface</hardwareInterface>
    </joint>
    <actuator name="motor_{name}">
      <hardwareInterface>hardware_interface/PositionJointInterface</hardwareInterface>
      <mechanicalReduction>1</mechanicalReduction>
    </actuator>
  </transmission>
  <transmission name="trans_right_waist_pitch">
    <type>transmission_interface/SimpleTransmission</type>
    <joint name="right_waist_pitch_joint">
      <hardwareInterface>hardware_interface/PositionJointInterface</hardwareInterface>
    </joint>
    <actuator name="motor_{name}">
      <hardwareInterface>hardware_interface/PositionJointInterface</hardwareInterface>
      <mechanicalReduction>1</mechanicalReduction>
    </actuator>
  </transmission>
  <transmission name="trans_right_knee_pitch">
    <type>transmission_interface/SimpleTransmission</type>
    <joint name="right_knee_pitch_joint">
      <hardwareInterface>hardware_interface/PositionJointInterface</hardwareInterface>
    </joint>
    <actuator name="motor_{name}">
      <hardwareInterface>hardware_interface/PositionJointInterface</hardwareInterface>
      <mechanicalReduction>1</mechanicalReduction>
    </actuator>
  </transmission>
  <transmission name="trans_right_ankle_pitch">
    <type>transmission_interface/SimpleTransmission</type>
    <joint name="right_ankle_pitch_joint">
      <hardwareInterface>hardware_interface/PositionJointInterface</hardwareInterface>
    </joint>
    <actuator name="motor_{name}">
      <hardwareInterface>hardware_interface/PositionJointInterface</hardwareInterface>
      <mechanicalReduction>1</mechanicalReduction>
    </actuator>
  </transmission>
  <transmission name="trans_right_ankle_roll">
    <type>transmission_interface/SimpleTransmission</type>
    <joint name="right_ankle_roll_joint">
      <hardwareInterface>hardware_interface/PositionJointInterface</hardwareInterface>
    </joint>
    <actuator name="motor_{name}">
      <hardwareInterface>hardware_interface/PositionJointInterface</hardwareInterface>
      <mechanicalReduction>1</mechanicalReduction>
    </actuator>
  </transmission>
  <gazebo>
    <plugin filename="libgazebo_ros_control.so" name="gazebo_ros_control">
      <robotNamespace/>
      <legacyModeNS>true</legacyModeNS>
    </plugin>
  </gazebo>
  <gazebo reference="body_link">
    <mu1>1.0</mu1>
    <mu2>1.0</mu2>
    <kp>1000000.0</kp>
    <kd>100.0</kd>
    <gravity>false</gravity>
    <minDepth>0.001</minDepth>
    <maxVel>1.0</maxVel>
  </gazebo>
  <gazebo reference="head_yaw_link">
    <mu1>1.0</mu1>
    <mu2>1.0</mu2>
    <kp>1000000.0</kp>
    <kd>100.0</kd>
    <gravity>false</gravity>
    <minDepth>0.001</minDepth>
    <maxVel>1.0</maxVel>
  </gazebo>
  <gazebo reference="left_shoulder_link">
    <mu1>1.0</mu1>
    <mu2>1.0</mu2>
    <kp>1000000.0</kp>
    <kd>100.0</kd>
    <gravity>false</gravity>
    <minDepth>0.001</minDepth>
    <maxVel>1.0</maxVel>
  </gazebo>
  <gazebo reference="left_upper_arm_link">
    <mu1>1.0</mu1>
    <mu2>1.0</mu2>
    <kp>1000000.0</kp>
    <kd>100.0</kd>
    <gravity>false</gravity>
    <minDepth>0.001</minDepth>
    <maxVel>1.0</maxVel>
  </gazebo>
  <gazebo reference="left_lower_arm_link">
    <mu1>1.0</mu1>
    <mu2>1.0</mu2>
    <kp>1000000.0</kp>
    <kd>100.0</kd>
    <gravity>false</gravity>
    <minDepth>0.001</minDepth>
    <maxVel>1.0</maxVel>
  </gazebo>
  <gazebo reference="right_shoulder_link">
    <mu1>1.0</mu1>
    <mu2>1.0</mu2>
    <kp>1000000.0</kp>
    <kd>100.0</kd>
    <gravity>false</gravity>
    <minDepth>0.001</minDepth>
    <maxVel>1.0</maxVel>
  </gazebo>
  <gazebo reference="right_upper_arm_link">
    <mu1>1.0</mu1>
    <mu2>1.0</mu2>
    <kp>1000000.0</kp>
    <kd>100.0</kd>
    <gravity>false</gravity>
    <minDepth>0.001</minDepth>
    <maxVel>1.0</maxVel>
  </gazebo>
  <gazebo reference="right_lower_arm_link">
    <mu1>1.0</mu1>
    <mu2>1.0</mu2>
    <kp>1000000.0</kp>
    <kd>100.0</kd>
    <gravity>false</gravity>
    <minDepth>0.001</minDepth>
    <maxVel>1.0</maxVel>
  </gazebo>
  <gazebo reference="left_waist_yaw_link">
    <mu1>1.0</mu1>
    <mu2>1.0</mu2>
    <kp>1000000.0</kp>
    <kd>100.0</kd>
    <gravity>false</gravity>
    <minDepth>0.001</minDepth>
    <maxVel>1.0</maxVel>
  </gazebo>
  <gazebo reference="left_waist_roll_link">
    <mu1>1.0</mu1>
    <mu2>1.0</mu2>
    <kp>1000000.0</kp>
    <kd>100.0</kd>
    <gravity>false</gravity>
    <minDepth>0.001</minDepth>
    <maxVel>1.0</maxVel>
  </gazebo>
  <gazebo reference="left_slider_crank_link">
    <mu1>1.0</mu1>
    <mu2>1.0</mu2>
    <kp>1000000.0</kp>
    <kd>100.0</kd>
    <gravity>false</gravity>
    <minDepth>0.001</minDepth>
    <maxVel>1.0</maxVel>
  </gazebo>
  <gazebo reference="left_waist_pitch_link">
    <mu1>1.0</mu1>
    <mu2>1.0</mu2>
    <kp>1000000.0</kp>
    <kd>100.0</kd>
    <gravity>false</gravity>
    <minDepth>0.001</minDepth>
    <maxVel>1.0</maxVel>
  </gazebo>
  <gazebo reference="left_waist_pitch_mimic_link">
    <mu1>1.0</mu1>
    <mu2>1.0</mu2>
    <kp>1000000.0</kp>
    <kd>100.0</kd>
    <gravity>false</gravity>
    <minDepth>0.001</minDepth>
    <maxVel>1.0</maxVel>
  </gazebo>
  <gazebo reference="left_knee_pitch_link">
    <mu1>1.0</mu1>
    <mu2>1.0</mu2>
    <kp>1000000.0</kp>
    <kd>100.0</kd>
    <gravity>false</gravity>
    <minDepth>0.001</minDepth>
    <maxVel>1.0</maxVel>
  </gazebo>
  <gazebo reference="left_shin_pitch_link">
    <mu1>1.0</mu1>
    <mu2>1.0</mu2>
    <kp>1000000.0</kp>
    <kd>100.0</kd>
    <gravity>false</gravity>
    <minDepth>0.001</minDepth>
    <maxVel>1.0</maxVel>
  </gazebo>
  <gazebo reference="left_shin_pitch_mimic_link">
    <mu1>1.0</mu1>
    <mu2>1.0</mu2>
    <kp>1000000.0</kp>
    <kd>100.0</kd>
    <gravity>false</gravity>
    <minDepth>0.001</minDepth>
    <maxVel>1.0</maxVel>
  </gazebo>
  <gazebo reference="left_independent_pitch_link">
    <mu1>1.0</mu1>
    <mu2>1.0</mu2>
    <kp>1000000.0</kp>
    <kd>100.0</kd>
    <gravity>false</gravity>
    <minDepth>0.001</minDepth>
    <maxVel>1.0</maxVel>
  </gazebo>
  <gazebo reference="left_ankle_pitch_link">
    <mu1>1.0</mu1>
    <mu2>1.0</mu2>
    <kp>1000000.0</kp>
    <kd>100.0</kd>
    <gravity>false</gravity>
    <minDepth>0.001</minDepth>
    <maxVel>1.0</maxVel>
  </gazebo>
  <gazebo reference="left_ankle_roll_link">
    <mu1>1.0</mu1>
    <mu2>1.0</mu2>
    <kp>1000000.0</kp>
    <kd>100.0</kd>
    <gravity>false</gravity>
    <minDepth>0.001</minDepth>
    <maxVel>1.0</maxVel>
  </gazebo>
  <gazebo reference="left_foot_link">
    <mu1>1.0</mu1>
    <mu2>1.0</mu2>
    <kp>1000000.0</kp>
    <kd>100.0</kd>
    <gravity>false</gravity>
    <minDepth>0.001</minDepth>
    <maxVel>1.0</maxVel>
  </gazebo>
  <gazebo>
    <plugin filename="libroboticsgroup_gazebo_mimic_joint_plugin.so" name="left_waist_roll_mimic_mimic_joint_plugin">
      <joint>left_waist_roll_joint</joint>
      <mimicJoint>left_waist_roll_mimic_joint</mimicJoint>
      <hasPID/>
      <multiplier>-2</multiplier>
      <offset>0</offset>
      <sensitiveness>0.0</sensitiveness>
      <maxEffort>1000.0</maxEffort>
    </plugin>
  </gazebo>
  <gazebo>
    <plugin filename="libroboticsgroup_gazebo_mimic_joint_plugin.so" name="left_waist_pitch_mimic_mimic_joint_plugin">
      <joint>left_waist_pitch_joint</joint>
      <mimicJoint>left_waist_pitch_mimic_joint</mimicJoint>
      <hasPID/>
      <multiplier>1</multiplier>
      <offset>0</offset>
      <sensitiveness>0.0</sensitiveness>
      <maxEffort>1000.0</maxEffort>
    </plugin>
  </gazebo>
  <gazebo>
    <plugin filename="libroboticsgroup_gazebo_mimic_joint_plugin.so" name="left_knee_pitch_mimic_mimic_joint_plugin">
      <joint>left_waist_pitch_joint</joint>
      <mimicJoint>left_knee_pitch_mimic_joint</mimicJoint>
      <hasPID/>
      <multiplier>-1</multiplier>
      <offset>0</offset>
      <sensitiveness>0.0</sensitiveness>
      <maxEffort>1000.0</maxEffort>
    </plugin>
  </gazebo>
  <gazebo>
    <plugin filename="libroboticsgroup_gazebo_mimic_joint_plugin.so" name="left_shin_pitch_mimic_mimic_joint_plugin">
      <joint>left_knee_pitch_joint</joint>
      <mimicJoint>left_shin_pitch_mimic_joint</mimicJoint>
      <hasPID/>
      <multiplier>1</multiplier>
      <offset>0</offset>
      <sensitiveness>0.0</sensitiveness>
      <maxEffort>1000.0</maxEffort>
    </plugin>
  </gazebo>
  <gazebo>
    <plugin filename="libroboticsgroup_gazebo_mimic_joint_plugin.so" name="left_ankle_pitch_mimic_mimic_joint_plugin">
      <joint>left_knee_pitch_joint</joint>
      <mimicJoint>left_ankle_pitch_mimic_joint</mimicJoint>
      <hasPID/>
      <multiplier>-1</multiplier>
      <offset>0</offset>
      <sensitiveness>0.0</sensitiveness>
      <maxEffort>1000.0</maxEffort>
    </plugin>
  </gazebo>
  <gazebo reference="right_waist_yaw_link">
    <mu1>1.0</mu1>
    <mu2>1.0</mu2>
    <kp>1000000.0</kp>
    <kd>100.0</kd>
    <gravity>false</gravity>
    <minDepth>0.001</minDepth>
    <maxVel>1.0</maxVel>
  </gazebo>
  <gazebo reference="right_waist_roll_link">
    <mu1>1.0</mu1>
    <mu2>1.0</mu2>
    <kp>1000000.0</kp>
    <kd>100.0</kd>
    <gravity>false</gravity>
    <minDepth>0.001</minDepth>
    <maxVel>1.0</maxVel>
  </gazebo>
  <gazebo reference="right_slider_crank_link">
    <mu1>1.0</mu1>
    <mu2>1.0</mu2>
    <kp>1000000.0</kp>
    <kd>100.0</kd>
    <gravity>false</gravity>
    <minDepth>0.001</minDepth>
    <maxVel>1.0</maxVel>
  </gazebo>
  <gazebo reference="right_waist_pitch_link">
    <mu1>1.0</mu1>
    <mu2>1.0</mu2>
    <kp>1000000.0</kp>
    <kd>100.0</kd>
    <gravity>false</gravity>
    <minDepth>0.001</minDepth>
    <maxVel>1.0</maxVel>
  </gazebo>
  <gazebo reference="right_waist_pitch_mimic_link">
    <mu1>1.0</mu1>
    <mu2>1.0</mu2>
    <kp>1000000.0</kp>
    <kd>100.0</kd>
    <gravity>false</gravity>
    <minDepth>0.001</minDepth>
    <maxVel>1.0</maxVel>
  </gazebo>
  <gazebo reference="right_knee_pitch_link">
    <mu1>1.0</mu1>
    <mu2>1.0</mu2>
    <kp>1000000.0</kp>
    <kd>100.0</kd>
    <gravity>false</gravity>
    <minDepth>0.001</minDepth>
    <maxVel>1.0</maxVel>
  </gazebo>
  <gazebo reference="right_shin_pitch_link">
    <mu1>1.0</mu1>
    <mu2>1.0</mu2>
    <kp>1000000.0</kp>
    <kd>100.0</kd>
    <gravity>false</gravity>
    <minDepth>0.001</minDepth>
    <maxVel>1.0</maxVel>
  </gazebo>
  <gazebo reference="right_shin_pitch_mimic_link">
    <mu1>1.0</mu1>
    <mu2>1.0</mu2>
    <kp>1000000.0</kp>
    <kd>100.0</kd>
    <gravity>false</gravity>
    <minDepth>0.001</minDepth>
    <maxVel>1.0</maxVel>
  </gazebo>
  <gazebo reference="right_independent_pitch_link">
    <mu1>1.0</mu1>
    <mu2>1.0</mu2>
    <kp>1000000.0</kp>
    <kd>100.0</kd>
    <gravity>false</gravity>
    <minDepth>0.001</minDepth>
    <maxVel>1.0</maxVel>
  </gazebo>
  <gazebo reference="right_ankle_pitch_link">
    <mu1>1.0</mu1>
    <mu2>1.0</mu2>
    <kp>1000000.0</kp>
    <kd>100.0</kd>
    <gravity>false</gravity>
    <minDepth>0.001</minDepth>
    <maxVel>1.0</maxVel>
  </gazebo>
  <gazebo reference="right_ankle_roll_link">
    <mu1>1.0</mu1>
    <mu2>1.0</mu2>
    <kp>1000000.0</kp>
    <kd>100.0</kd>
    <gravity>false</gravity>
    <minDepth>0.001</minDepth>
    <maxVel>1.0</maxVel>
  </gazebo>
  <gazebo reference="right_foot_link">
    <mu1>1.0</mu1>
    <mu2>1.0</mu2>
    <kp>1000000.0</kp>
    <kd>100.0</kd>
    <gravity>false</gravity>
    <minDepth>0.001</minDepth>
    <maxVel>1.0</maxVel>
  </gazebo>
  <gazebo>
    <plugin filename="libroboticsgroup_gazebo_mimic_joint_plugin.so" name="right_waist_roll_mimic_mimic_joint_plugin">
      <joint>right_waist_roll_joint</joint>
      <mimicJoint>right_waist_roll_mimic_joint</mimicJoint>
      <hasPID/>
      <multiplier>-2</multiplier>
      <offset>0</offset>
      <sensitiveness>0.0</sensitiveness>
      <maxEffort>1000.0</maxEffort>
    </plugin>
  </gazebo>
  <gazebo>
    <plugin filename="libroboticsgroup_gazebo_mimic_joint_plugin.so" name="right_waist_pitch_mimic_mimic_joint_plugin">
      <joint>right_waist_pitch_joint</joint>
      <mimicJoint>right_waist_pitch_mimic_joint</mimicJoint>
      <hasPID/>
      <multiplier>1</multiplier>
      <offset>0</offset>
      <sensitiveness>0.0</sensitiveness>
      <maxEffort>1000.0</maxEffort>
    </plugin>
  </gazebo>
  <gazebo>
    <plugin filename="libroboticsgroup_gazebo_mimic_joint_plugin.so" name="right_knee_pitch_mimic_mimic_joint_plugin">
      <joint>right_waist_pitch_joint</joint>
      <mimicJoint>right_knee_pitch_mimic_joint</mimicJoint>
      <hasPID/>
      <multiplier>-1</multiplier>
      <offset>0</offset>
      <sensitiveness>0.0</sensitiveness>
      <maxEffort>1000.0</maxEffort>
    </plugin>
  </gazebo>
  <gazebo>
    <plugin filename="libroboticsgroup_gazebo_mimic_joint_plugin.so" name="right_shin_pitch_mimic_mimic_joint_plugin">
      <joint>right_knee_pitch_joint</joint>
      <mimicJoint>right_shin_pitch_mimic_joint</mimicJoint>
      <hasPID/>
      <multiplier>1</multiplier>
      <offset>0</offset>
      <sensitiveness>0.0</sensitiveness>
      <maxEffort>1000.0</maxEffort>
    </plugin>
  </gazebo>
  <gazebo>
    <plugin filename="libroboticsgroup_gazebo_mimic_joint_plugin.so" name="right_ankle_pitch_mimic_mimic_joint_plugin">
      <joint>right_knee_pitch_joint</joint>
      <mimicJoint>right_ankle_pitch_mimic_joint</mimicJoint>
      <hasPID/>
      <multiplier>-1</multiplier>
      <offset>0</offset>
      <sensitiveness>0.0</sensitiveness>
      <maxEffort>1000.0</maxEffort>
    </plugin>
  </gazebo>
  <gazebo reference="camera_link">
    <sensor name="camera_sensor" type="camera">
      <update_rate>10.0</update_rate>
      <camera name="camera_sensor">
        <pose>0 0 0 0 0 0</pose>
        <horizontal_fov>1.3962634</horizontal_fov>
        <image>
          <width>640</width>
          <height>480</height>
          <format>R8G8B8</format>
        </image>
        <clip>
          <near>0.02</near>
          <far>300</far>
        </clip>
        <noise>
          <type>gaussian</type>
          <stddev>0.007</stddev>
        </noise>
      </camera>
      <plugin filename="libgazebo_ros_camera.so" name="camera_plugin">
        <alwaysOn>true</alwaysOn>
        <updateRate>0.0</updateRate>
        <cameraName>camera_sensor</cameraName>
        <imageTopicName>image_raw</imageTopicName>
        <cameraInfoTopicName>camera_info</cameraInfoTopicName>
        <frameName>camera_link</frameName>
        <hackBaseLine>0.0</hackBaseLine>
        <distortionK1>0.0</distortionK1>
        <distortionK2>0.0</distortionK2>
        <distortionK3>0.0</distortionK3>
        <distortionT1>0.0</distortionT1>
        <distortionT2>0.0</distortionT2>
      </plugin>
    </sensor>
  </gazebo>
  <gazebo reference="imu_link">
    <gravity>true</gravity>
    <sensor name="imu_sensor" type="imu">
      <always_on>true</always_on>
      <update_rate>100</update_rate>
      <visualize>true</visualize>
      <topic>data</topic>
      <pose>0 0 0 0 0 0</pose>
      <plugin filename="libgazebo_ros_imu_sensor.so" name="imu_plugin">
        <topicName>imu/data</topicName>
        <bodyName>imu_link</bodyName>
        <updateRateHZ>10.0</updateRateHZ>
        <gaussianNoise>0.0</gaussianNoise>
        <xyzOffset>0 0 0</xyzOffset>
        <rpyOffset>0 0 0</rpyOffset>
        <frameName>imu_link</frameName>
      </plugin>
    </sensor>
  </gazebo>
</robot>
